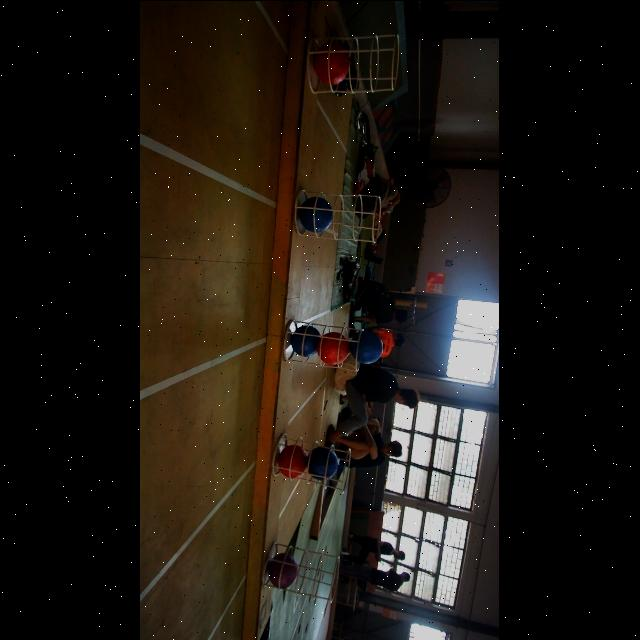B: (350, 330, 386, 362), (301, 196, 333, 232), (307, 448, 341, 478), (290, 326, 324, 356)
R: (312, 40, 353, 84), (279, 444, 311, 476), (319, 332, 351, 361)
